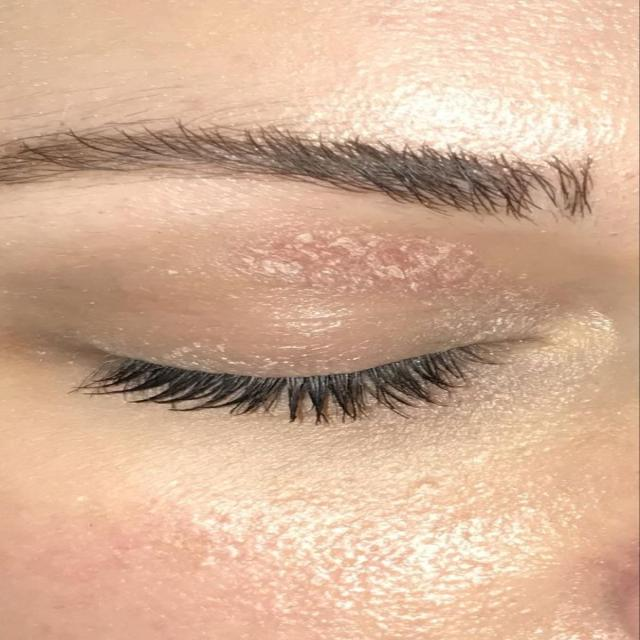Oily-Skin: (60, 444, 585, 634), (127, 10, 613, 106)
